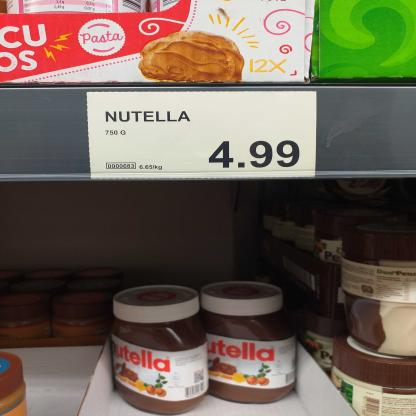prtg: (88, 92, 319, 181)
